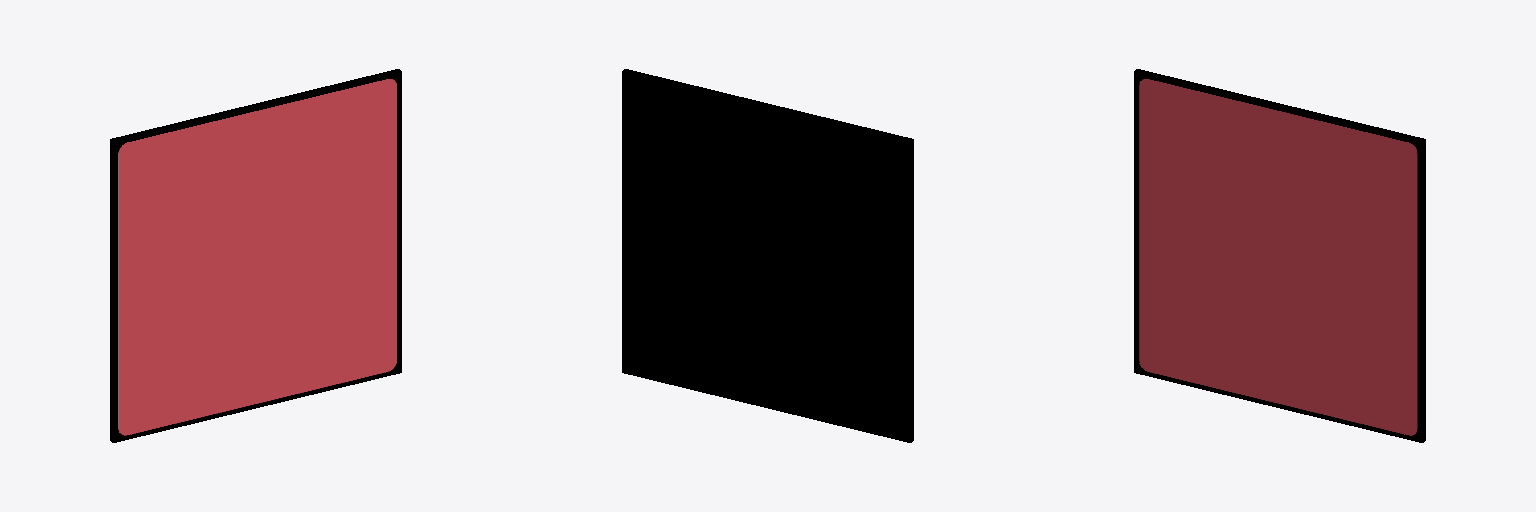
The picture shows the model from 3 angles: view 1: azimuth 30°, elevation 25°; view 2: azimuth 150°, elevation 25°; view 3: azimuth 330°, elevation 25°; orthographic projection.
Parts seen in each view (by area): view 1: Cube.003_Cube.005; view 2: Cube.003_Cube.005; view 3: Cube.003_Cube.005.
Part boxes in pixels (bbox=[...]): Cube.003_Cube.005: bbox=[110, 69, 401, 442]; Cube.003_Cube.005: bbox=[622, 69, 913, 442]; Cube.003_Cube.005: bbox=[1134, 69, 1425, 442].
Size of the model in its own units: 2 by 2 by 0.04.
1 materials, 1 textured.